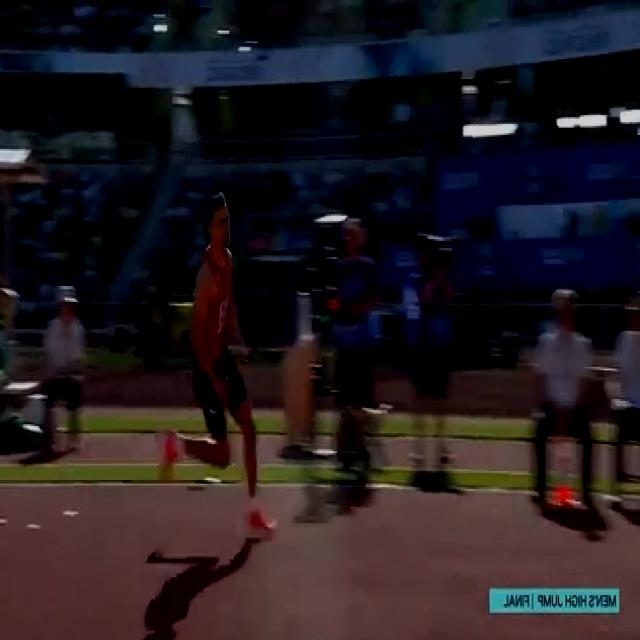run: (159, 194, 276, 550)
